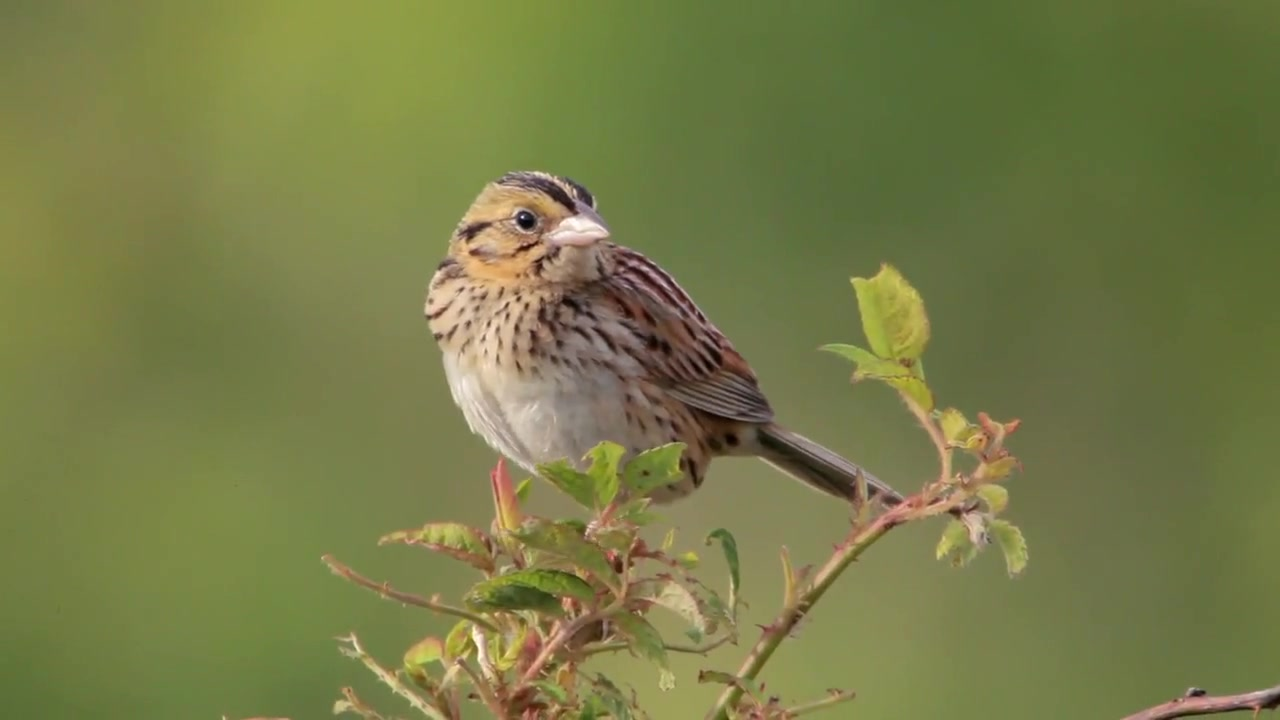bird: (424, 172, 917, 527)
